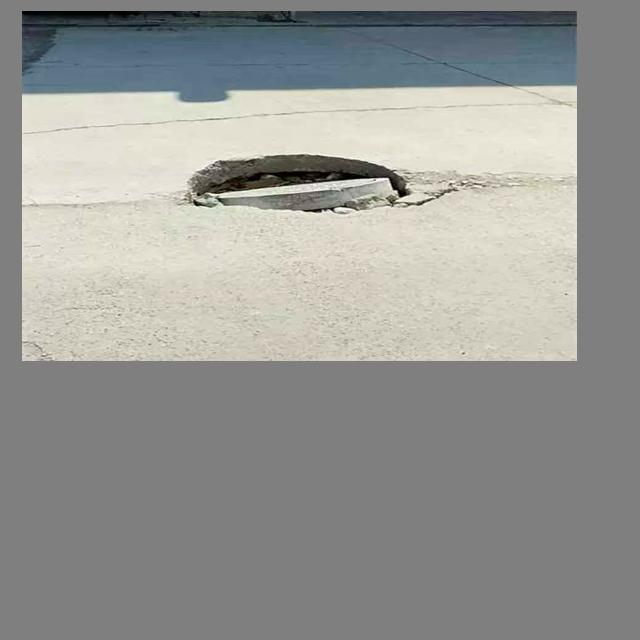circle: (162, 145, 489, 231)
